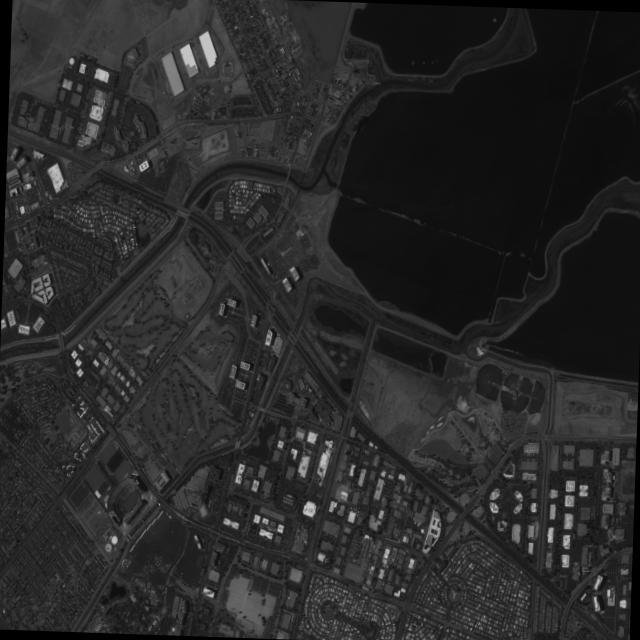storage-tank: (109, 534, 117, 543), (66, 56, 75, 64), (103, 542, 111, 550)
